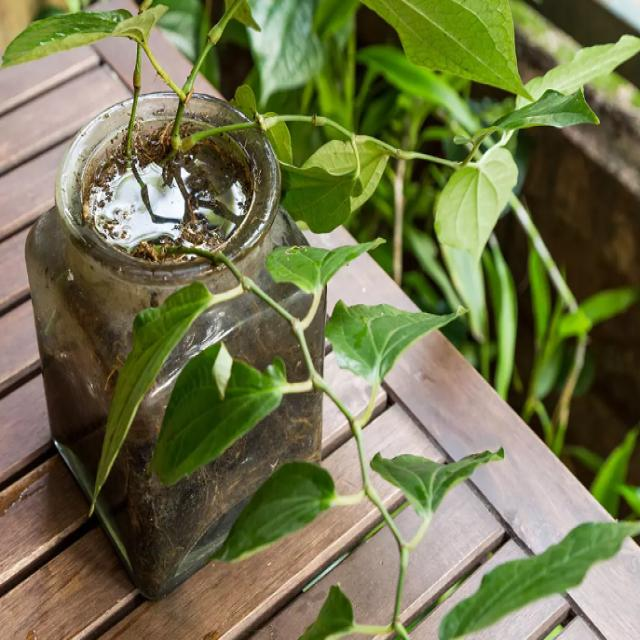Breeding Place: (23, 87, 327, 603)
